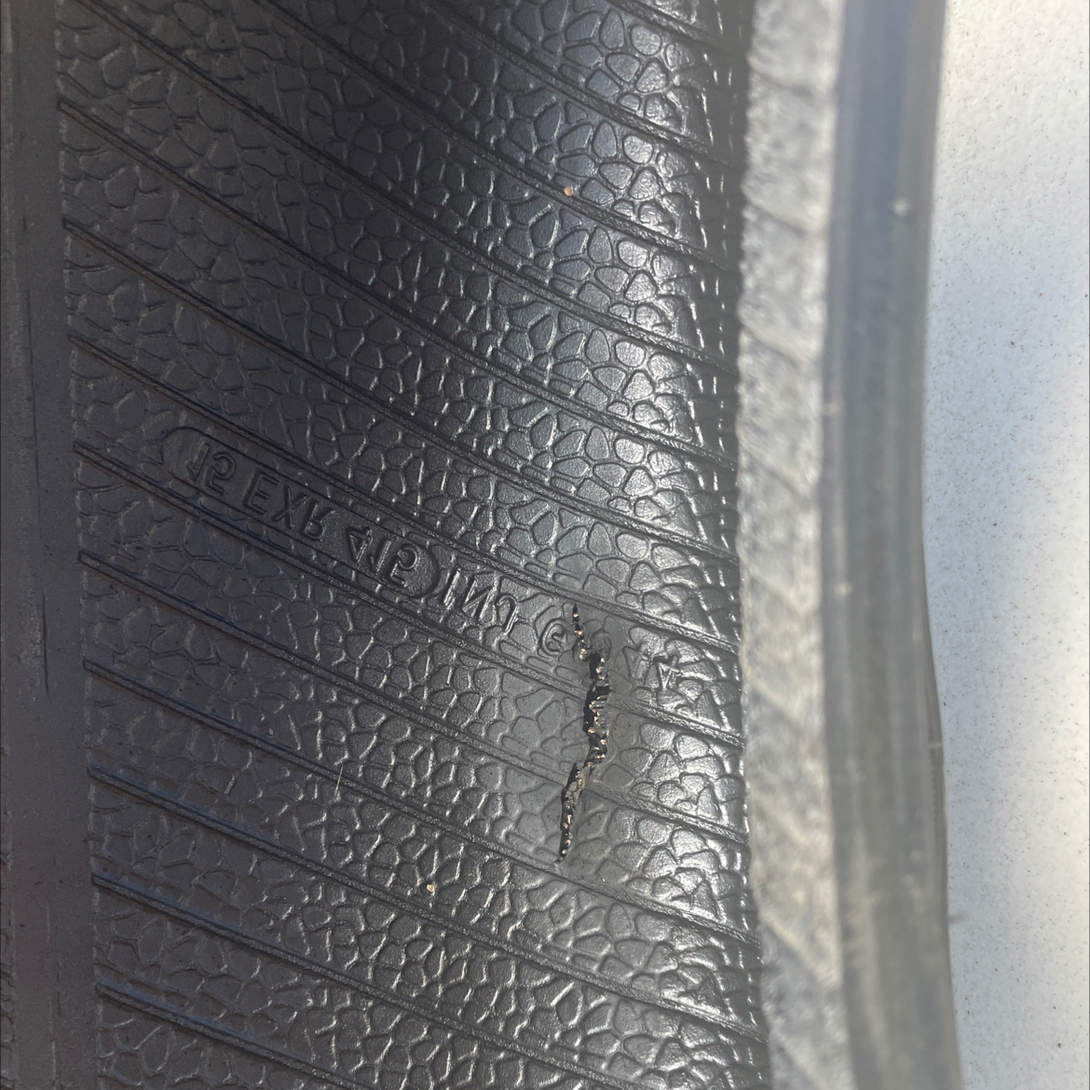CBU: (525, 596, 637, 892)
